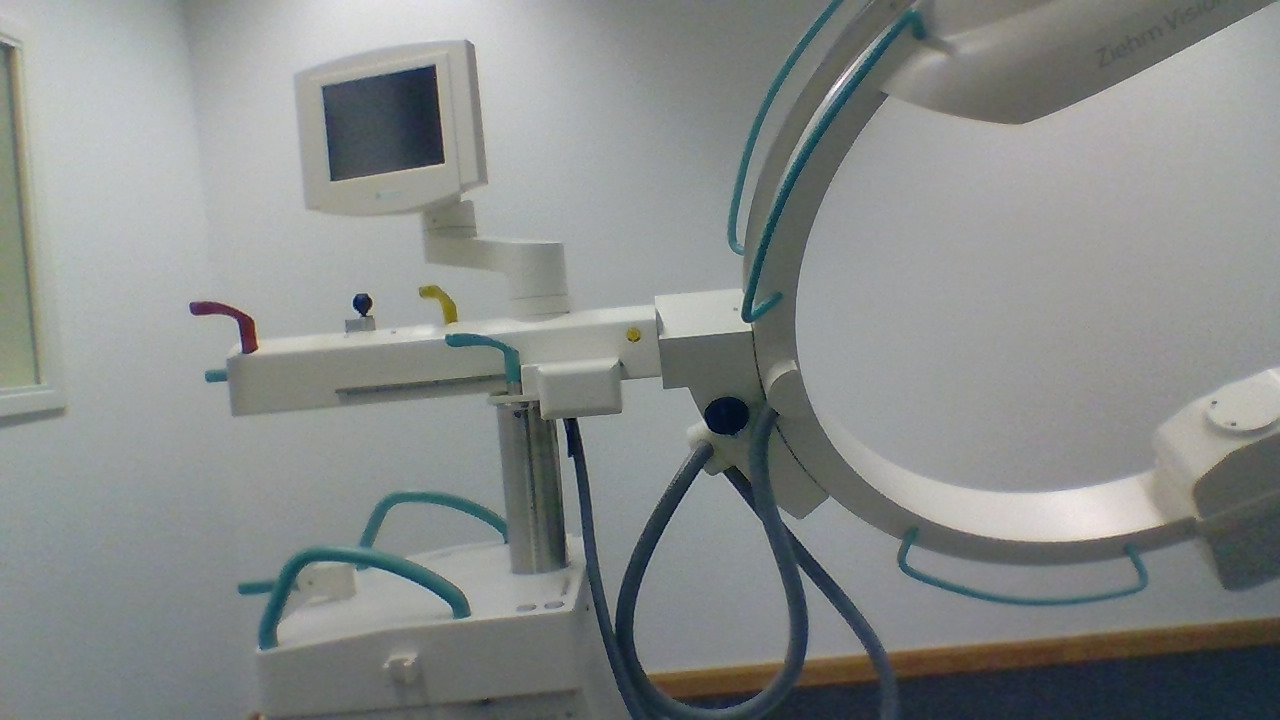carmBACK: (234, 560, 357, 603)
carmLOCK: (703, 395, 752, 435)
carmSCREEN: (292, 39, 489, 217)
